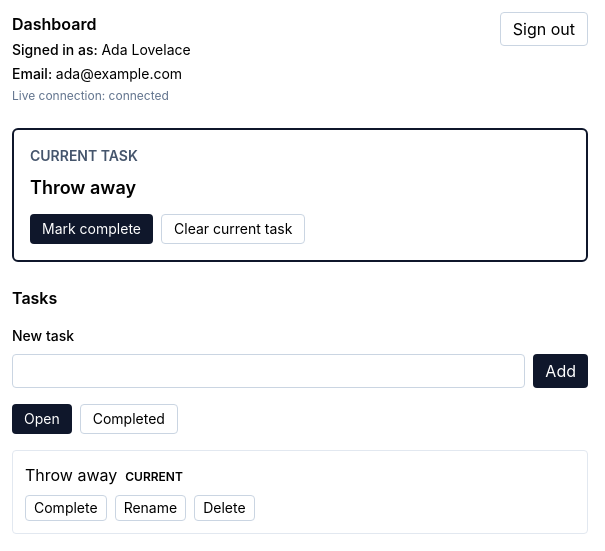
dashboard tasks › deletes only after confirmation, and deleting the current task clears it (D38)
Expected: the text "Throw away" is shown, [30, 177, 136, 198]
What coordinates should you click on to do the following:
click the button "Delete"
I would click on:
 (224, 508)
Its box is [194, 495, 255, 521].
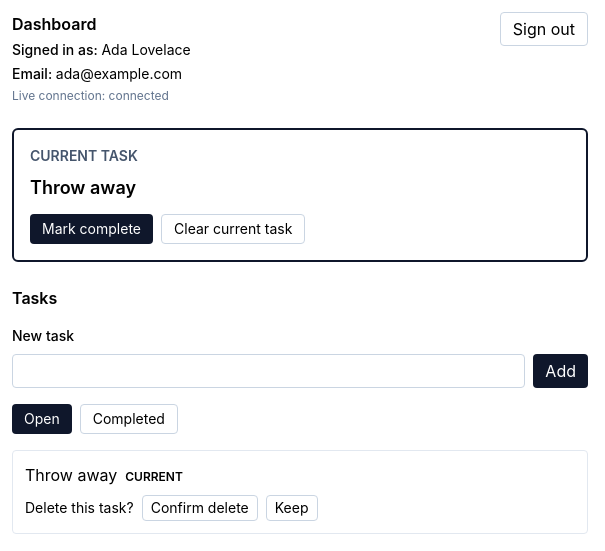
What coordinates should you click on to do the following:
click the button "Keep"
I would click on:
 (292, 508)
Its box is [266, 495, 318, 521].
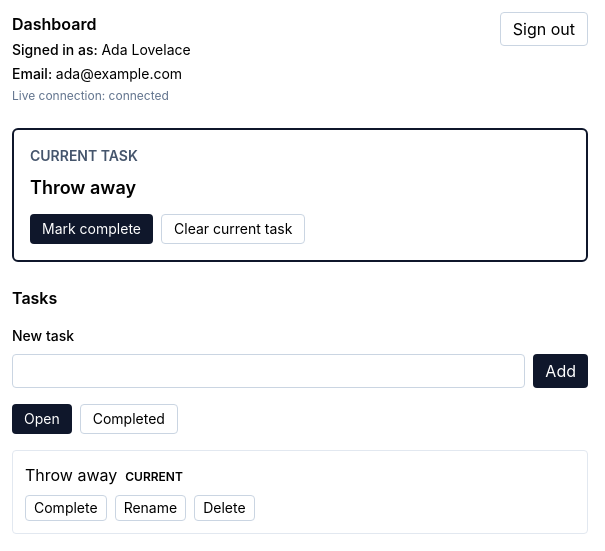
What coordinates should you click on to do the following:
click the button "Delete"
I would click on:
 (224, 508)
Its box is [194, 495, 255, 521].
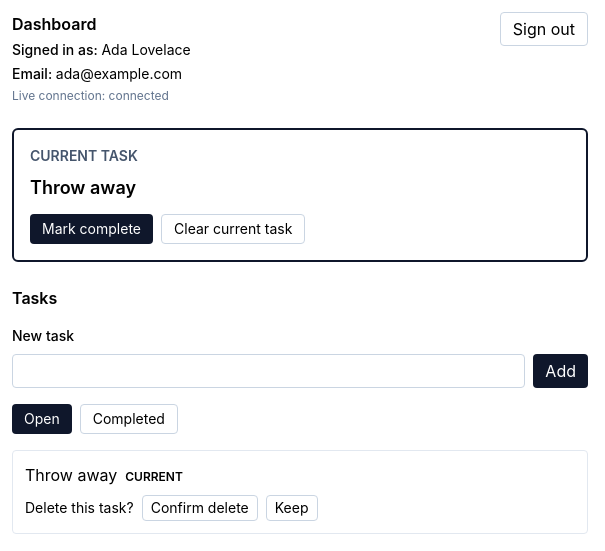
What coordinates should you click on to do the following:
click the button "Confirm delete"
I would click on:
 (200, 508)
Its box is [142, 495, 258, 521].
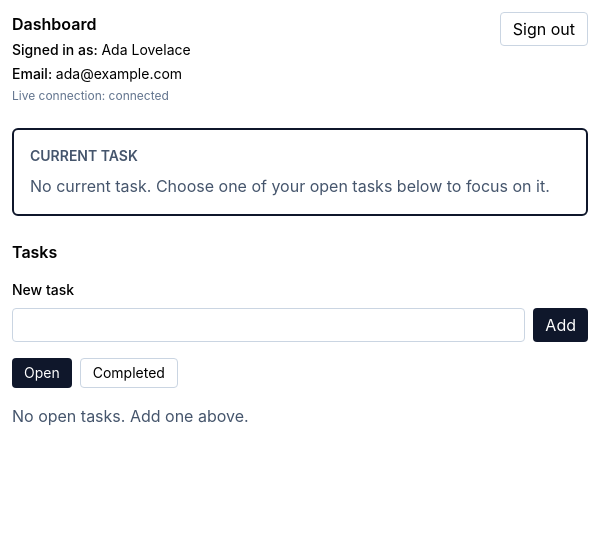
Now the text "No open tasks. Add one above." is shown, box [12, 406, 249, 426]
Now the text "No current task" is shown, box [30, 176, 550, 196]
